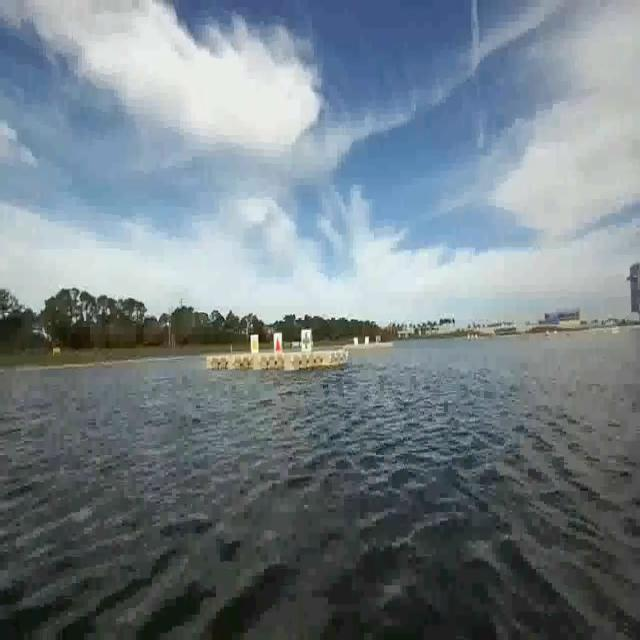blue-cross: (301, 329, 311, 356)
red-dot: (273, 330, 284, 359)
yellow-duck: (250, 334, 260, 356)
